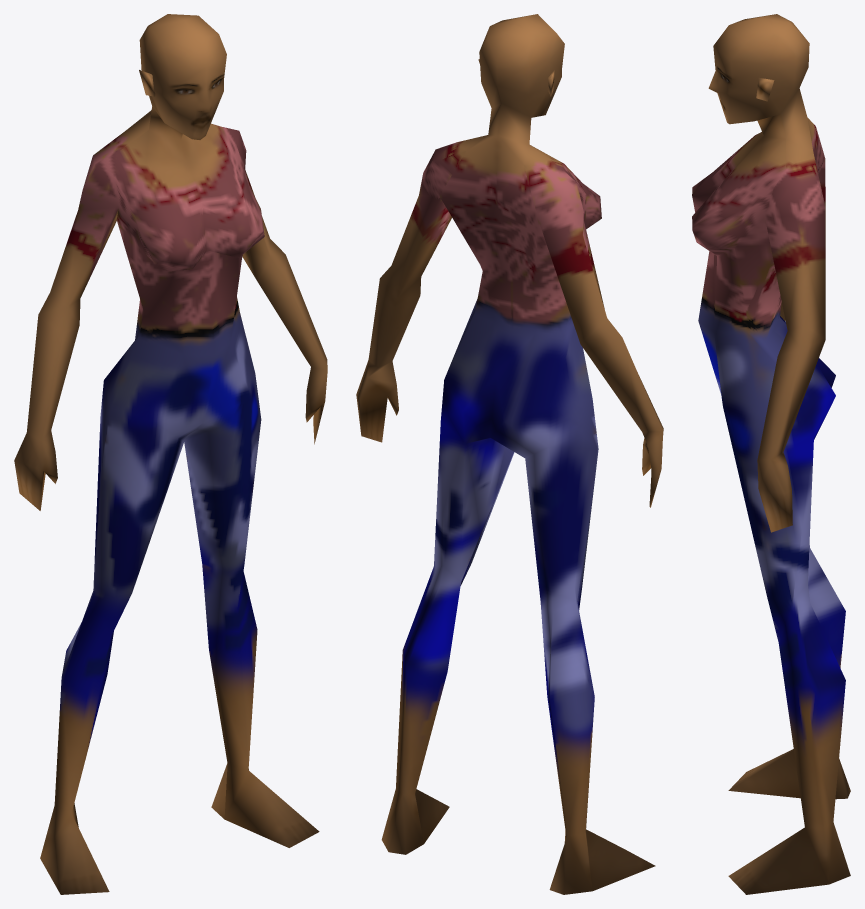
File: female.obj
3 views of the same model, side by side, from view 1: azimuth 30°, elevation 25°; view 2: azimuth 150°, elevation 25°; view 3: azimuth 270°, elevation 25° (orthographic). The views are drawn at different scales.
Visible parts, largest first — view 1: Cylinder.002; view 2: Cylinder.002; view 3: Cylinder.002.
Boxes of the visible parts, <box> form: Cylinder.002: <box>14,14,327,894</box>; Cylinder.002: <box>356,14,663,894</box>; Cylinder.002: <box>692,14,850,894</box>.
Size of the model in its own units: 2.52 by 6.49 by 1.14.
